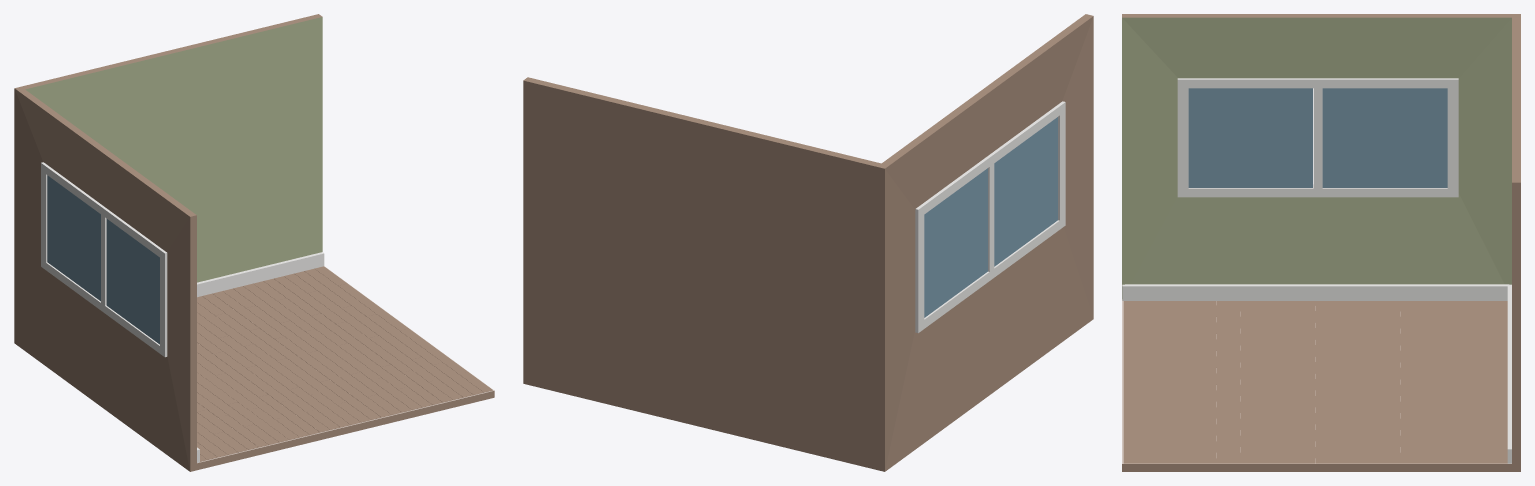
3 views of the same model, side by side, from view 1: azimuth 30°, elevation 25°; view 2: azimuth 150°, elevation 25°; view 3: azimuth 270°, elevation 25° (orthographic). The views are drawn at different scales.
Parts seen in each view (by area): view 1: Base_3; view 2: Base_3; view 3: Base_3.
Part boxes in pixels (box(x1,y1,x2,y2)): Base_3: box(14, 14, 494, 471); Base_3: box(523, 14, 1093, 471); Base_3: box(1122, 14, 1520, 471).
Bounding box in the file's own units: 501 × 500 × 401.
